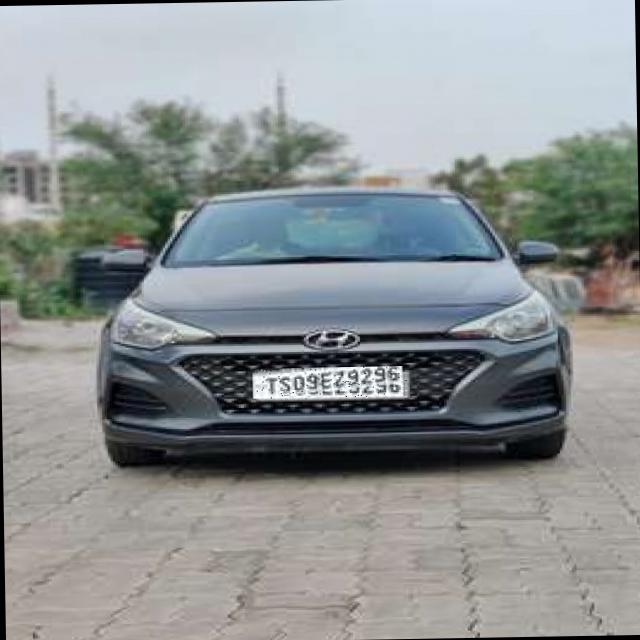Plate: (254, 367, 408, 400)
